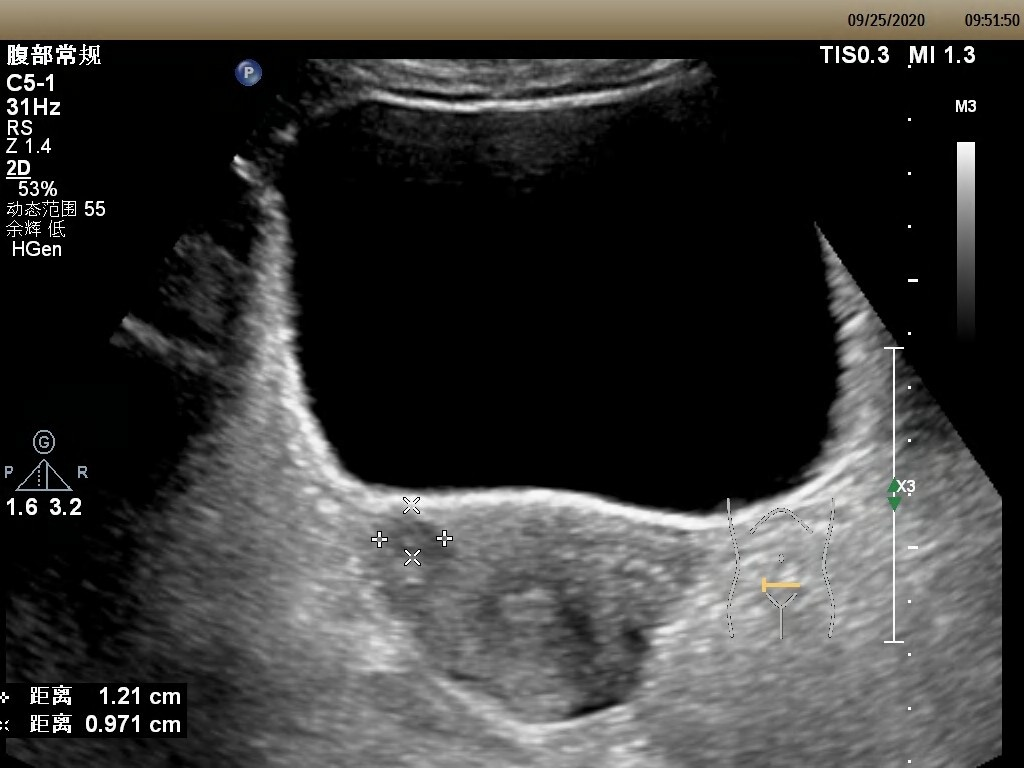肌瘤: (379, 505, 445, 558)
